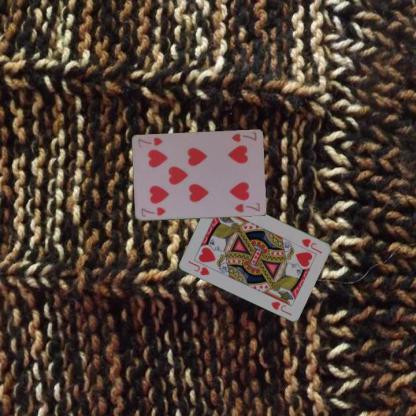7h: (138, 204, 167, 219), (228, 130, 258, 143)
Jh: (185, 258, 211, 277), (299, 236, 324, 255)
